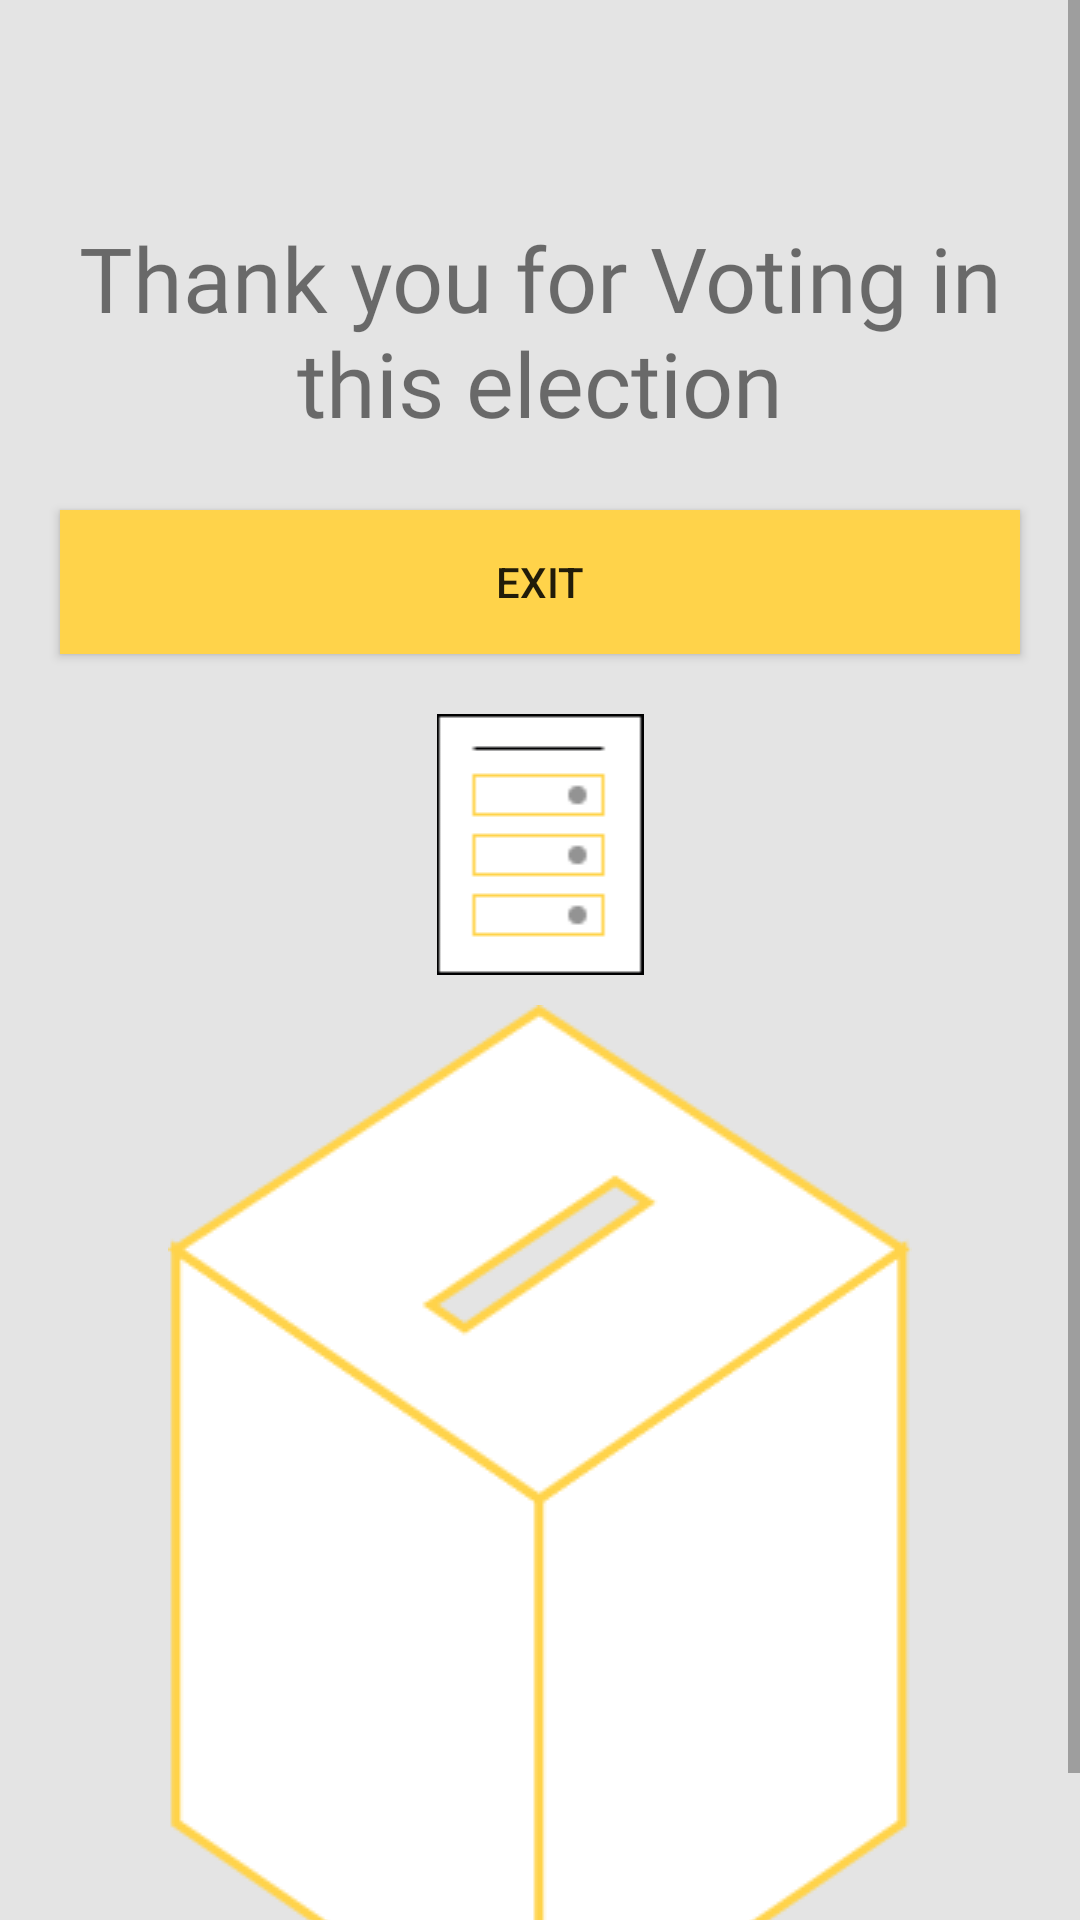

Where icons sit on this 1080x1920 app screen, as {"left": x1, "top": y1, "right": x2, "bottom": y2}:
document: {"left": 437, "top": 714, "right": 644, "bottom": 975}
